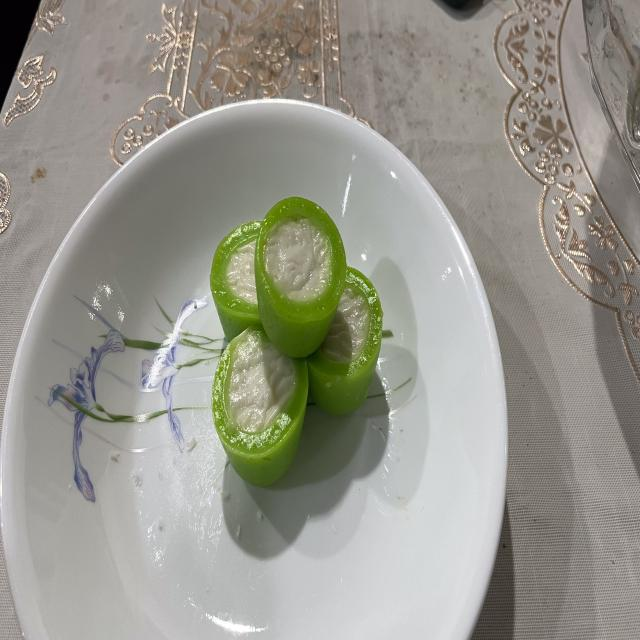nona-manis: (212, 327, 309, 487), (255, 198, 346, 358), (306, 267, 382, 413), (210, 220, 261, 340)
